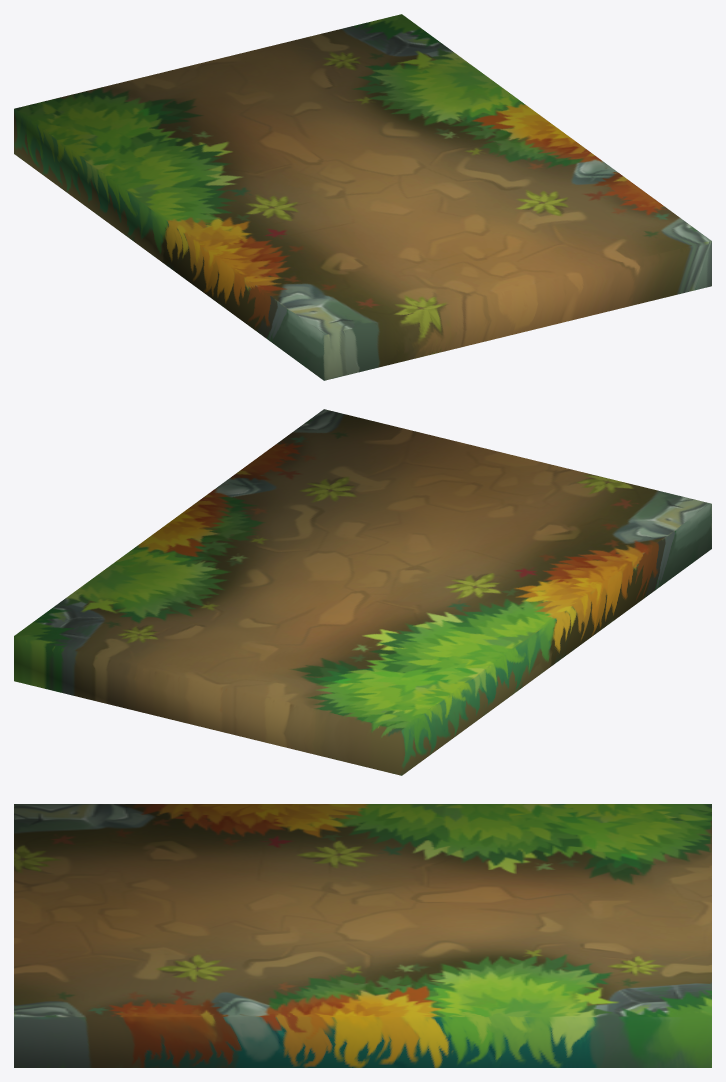
The model's file is floor_17.FBX.
The picture shows the model from 3 angles, top to bottom: view 1: azimuth 30°, elevation 25°; view 2: azimuth 150°, elevation 25°; view 3: azimuth 270°, elevation 25°; orthographic projection. The views are drawn at different scales.
Visible parts, largest first — view 1: floor_17; view 2: floor_17; view 3: floor_17.
Boxes of the visible parts, x1,y1,x2,y2 form: floor_17: (14, 14, 711, 380); floor_17: (14, 409, 711, 775); floor_17: (14, 804, 711, 1067).
Size of the model in its own units: 272 by 30.23 by 376.
